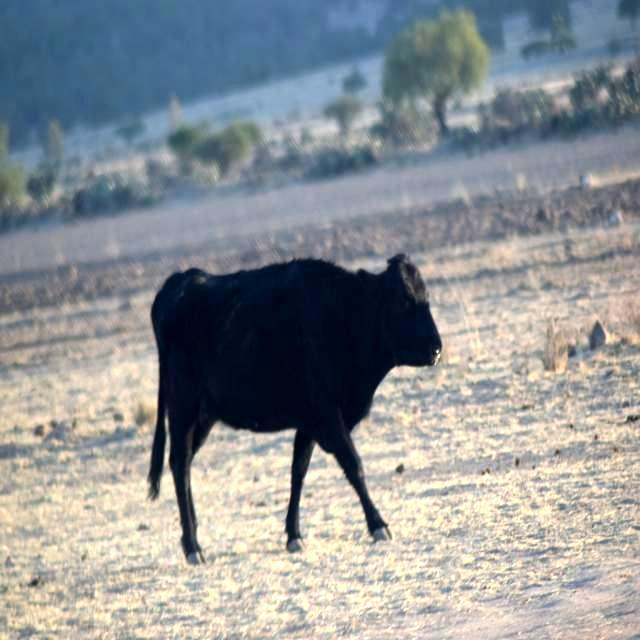COW: (149, 255, 441, 563)
